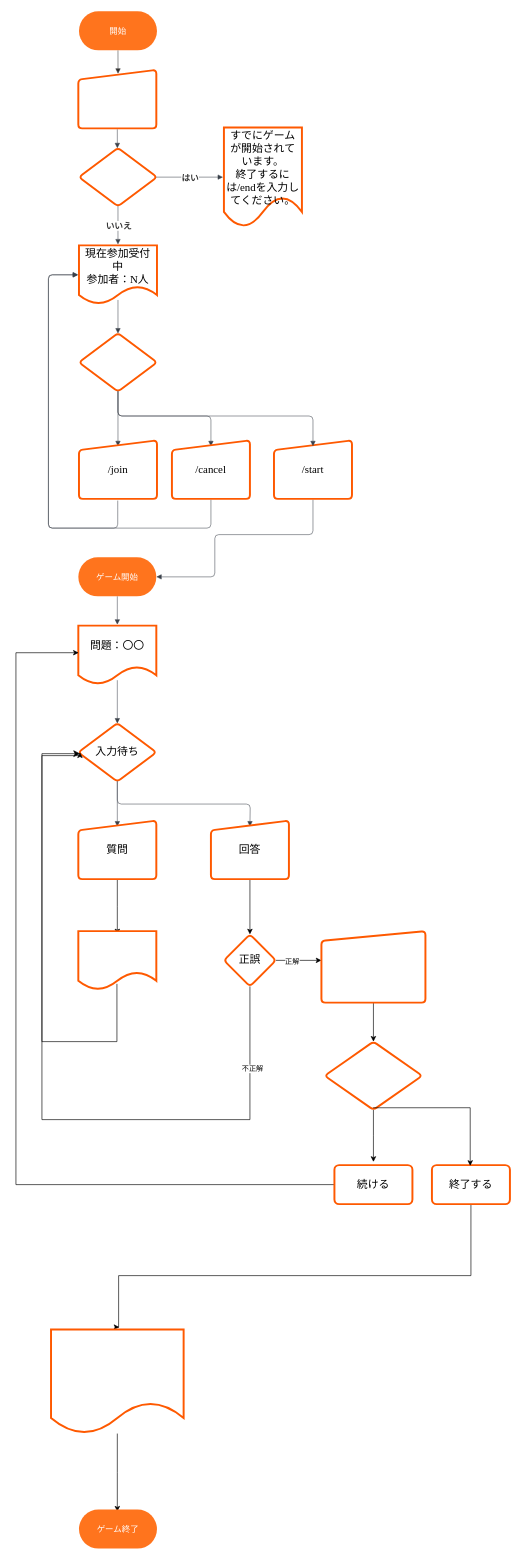
The diagram is 522 pixels wide and 1560 high, and some of its shapes have lost their labels. Here are the shapes that lost their labels. From the top down, the centre of each, then its label:
At point 117,99: "/play".
At point 118,177: "プレイ開始済".
At point 118,362: "参加コマンド".
At point 117,960: "Yes / No".
At point 373,966: "プレイヤー〇〇さん 正解です".
At point 373,1075: "ボタン入力まち".
At point 117,1381: "ゲーム終了です。 総問題数：N １位：〇〇 ２位：△△ ３位：■■".
